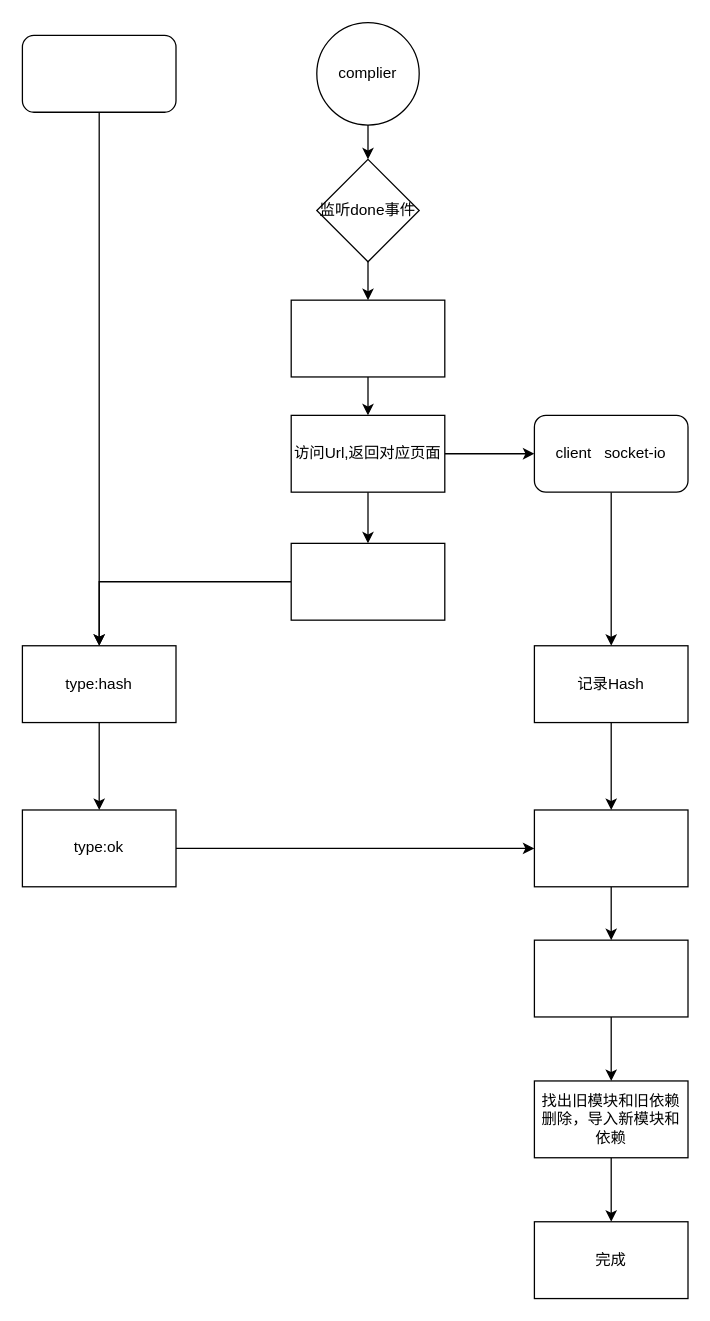
Some shapes in this 710 by 1321 pixel diagram are drawn without their labels. The shapes that lost their labels are listed below. From the top down, each one's box as (x1, y1, x2, y2) in pixels, then its label:
(21, 34, 176, 112): server socket-io
(290, 299, 445, 377): express.listening
(290, 542, 445, 620): 文件改变，webpack触发done事件
(533, 809, 688, 887): ajax请求模块更新信息
(533, 939, 688, 1017): 根据信息请求新模块
